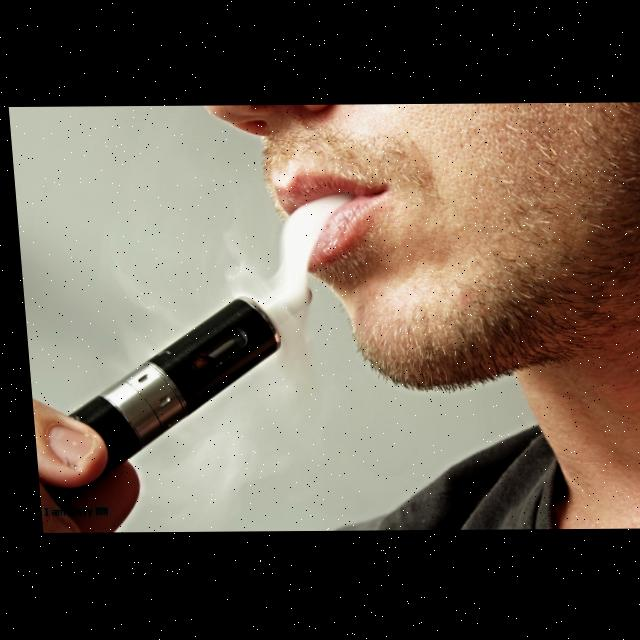vape: (19, 285, 322, 507)
